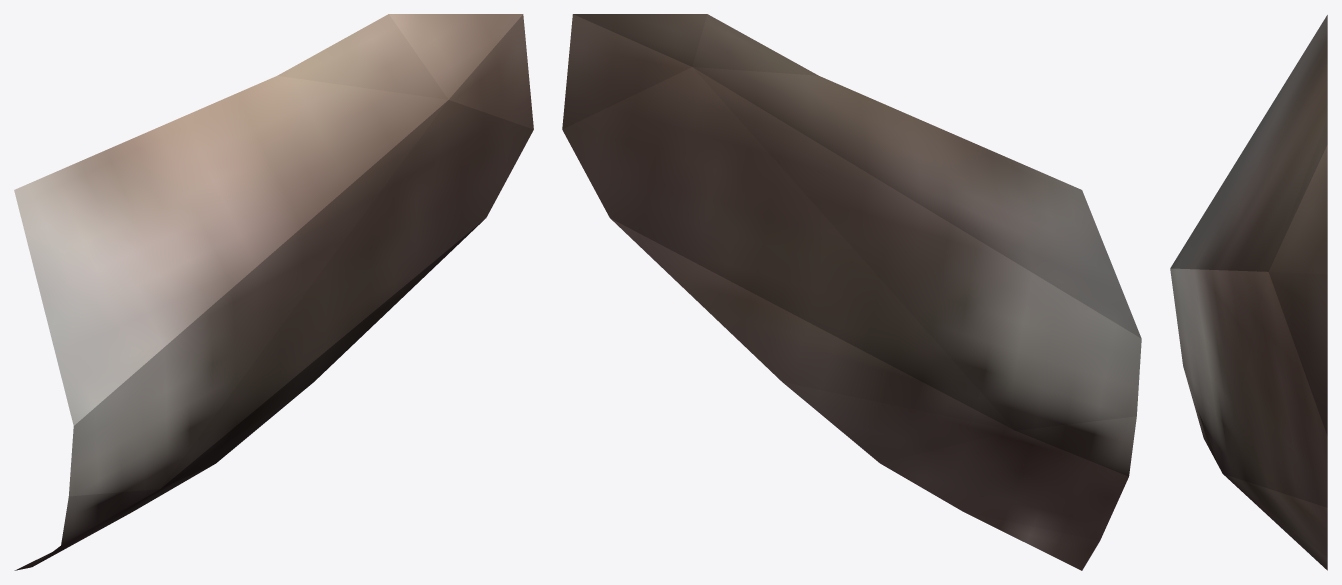
The picture shows the model from 3 angles, left to right: view 1: azimuth 30°, elevation 25°; view 2: azimuth 150°, elevation 25°; view 3: azimuth 270°, elevation 25°; orthographic projection. The views are drawn at different scales.
Bounding box in the file's own units: 0.0623 × 0.0533 × 0.0124.
1 material, 1 textured.
